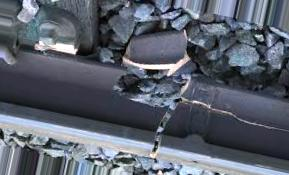tracks_fault: (96, 50, 284, 161)
